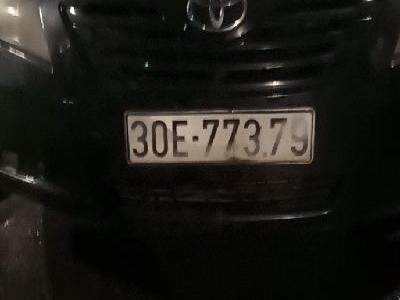car: (123, 112, 313, 164)
